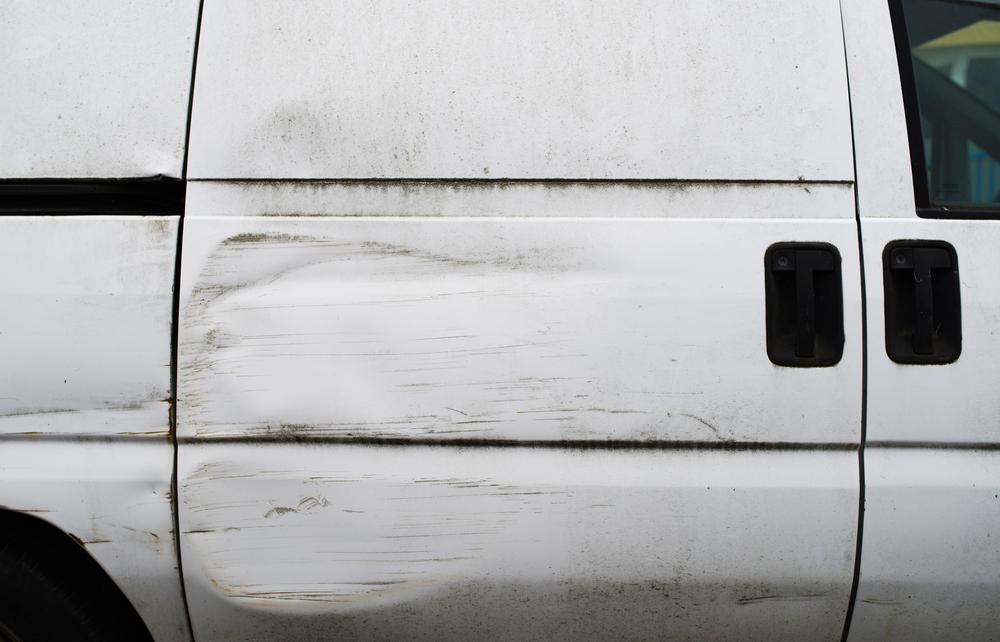dent: (179, 237, 613, 443), (185, 462, 491, 616)
